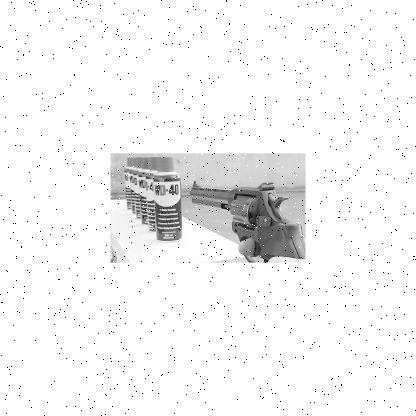gun: (186, 178, 302, 262)
